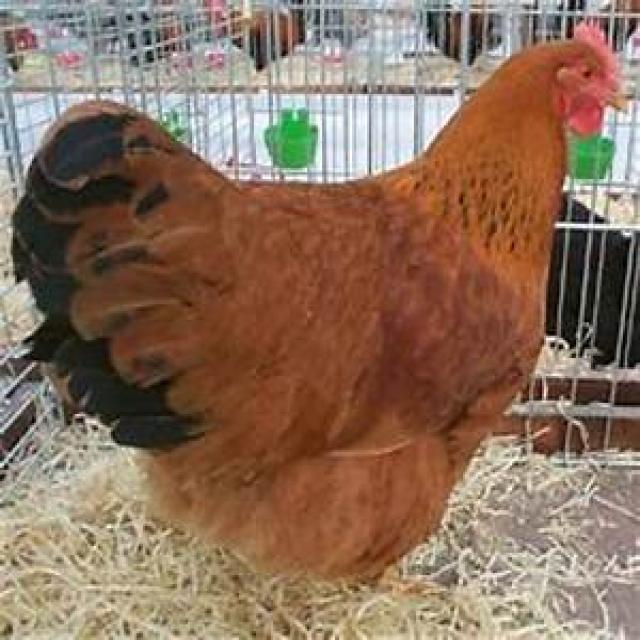hen: (11, 22, 627, 586)
